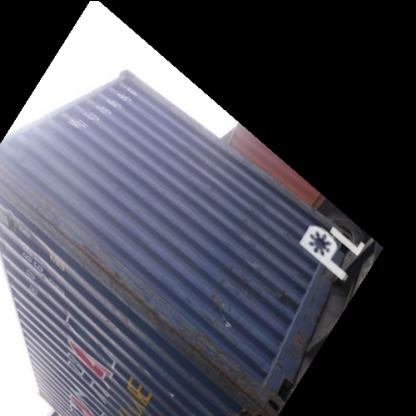Damage: (12, 180, 106, 276), (157, 332, 275, 407), (88, 266, 192, 336)
